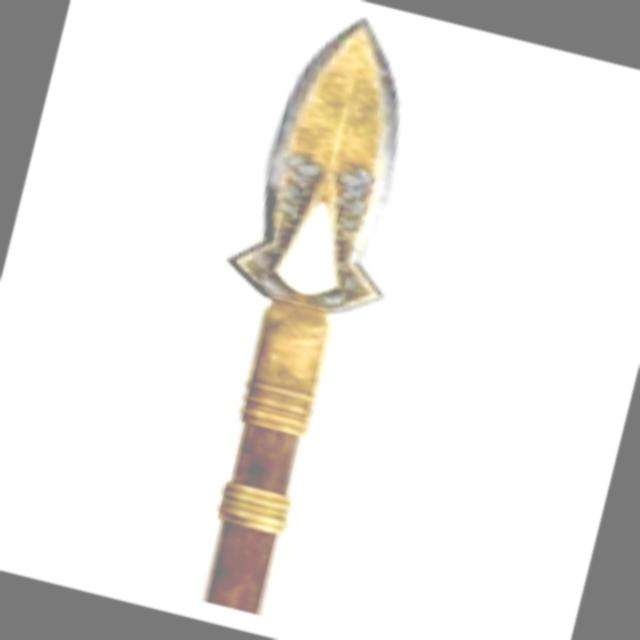spear: (112, 0, 462, 637)
